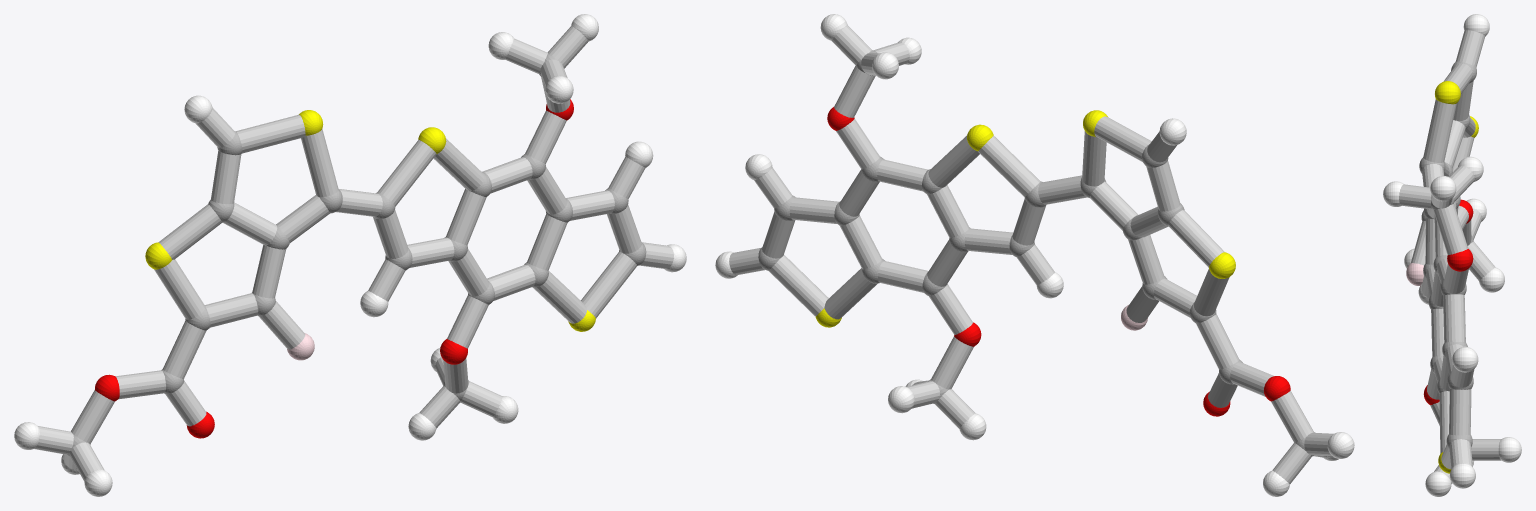
The model's file is color.glb.
3 renders of one model, left to right at view 1: azimuth 30°, elevation 25°; view 2: azimuth 150°, elevation 25°; view 3: azimuth 270°, elevation 25°, orthographic. The views are drawn at different scales.
Visible parts, largest first — view 1: grp15205, grp8689, grp1, grp7241, grp13395; view 2: grp15205, grp8689, grp1, grp7241, grp13395; view 3: grp15205, grp8689, grp1, grp13395, grp7241, grp14843.
Boxes of the visible parts, <box> form: grp15205: <box>34,26,673,481</box>; grp8689: <box>14,14,686,496</box>; grp1: <box>67,53,646,456</box>; grp7241: <box>145,110,595,331</box>; grp13395: <box>95,99,573,438</box>; grp15205: <box>729,25,1333,483</box>; grp8689: <box>715,14,1354,496</box>; grp1: <box>758,50,1315,456</box>; grp7241: <box>815,110,1235,327</box>; grp13395: <box>827,107,1290,416</box>; grp15205: <box>1399,30,1501,483</box>; grp8689: <box>1383,14,1521,496</box>; grp1: <box>1419,61,1476,448</box>; grp13395: <box>1423,199,1473,404</box>; grp7241: <box>1435,81,1478,473</box>; grp14843: <box>1406,263,1423,285</box>.
Bounding box in the file's own units: 16.29 × 9.24 × 3.19.
